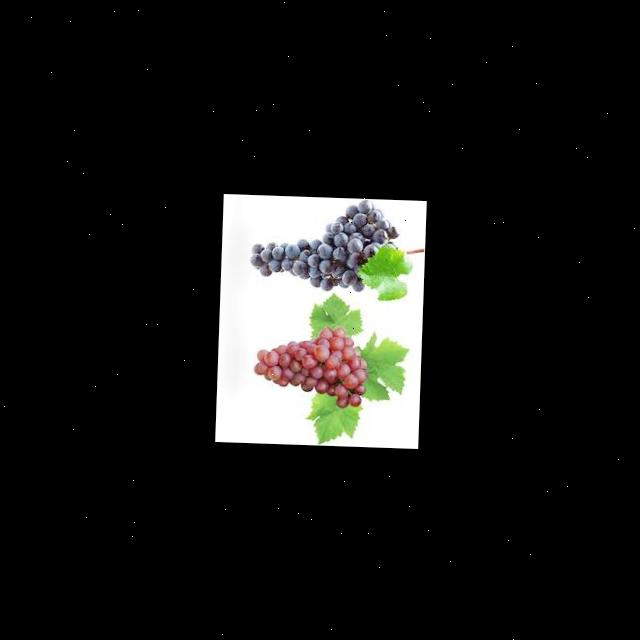grape: (248, 194, 401, 292), (252, 320, 371, 408)
